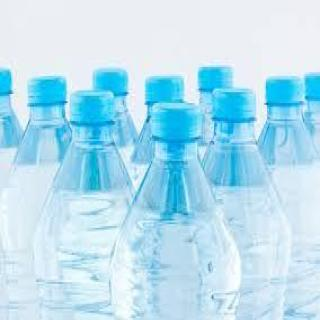Plastic-bottle: (110, 102, 245, 320), (31, 88, 142, 320), (202, 88, 295, 320), (1, 75, 79, 320), (258, 75, 320, 320), (91, 61, 141, 157), (1, 66, 26, 187)
